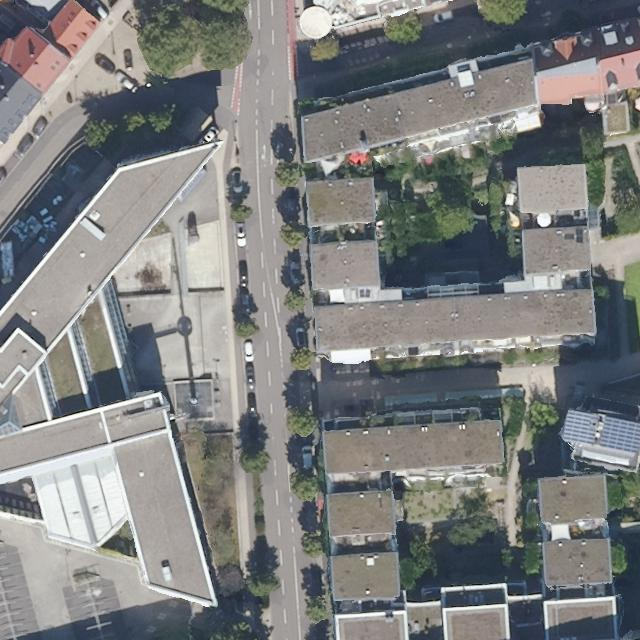PV: (599, 415, 639, 454), (562, 408, 601, 447)
